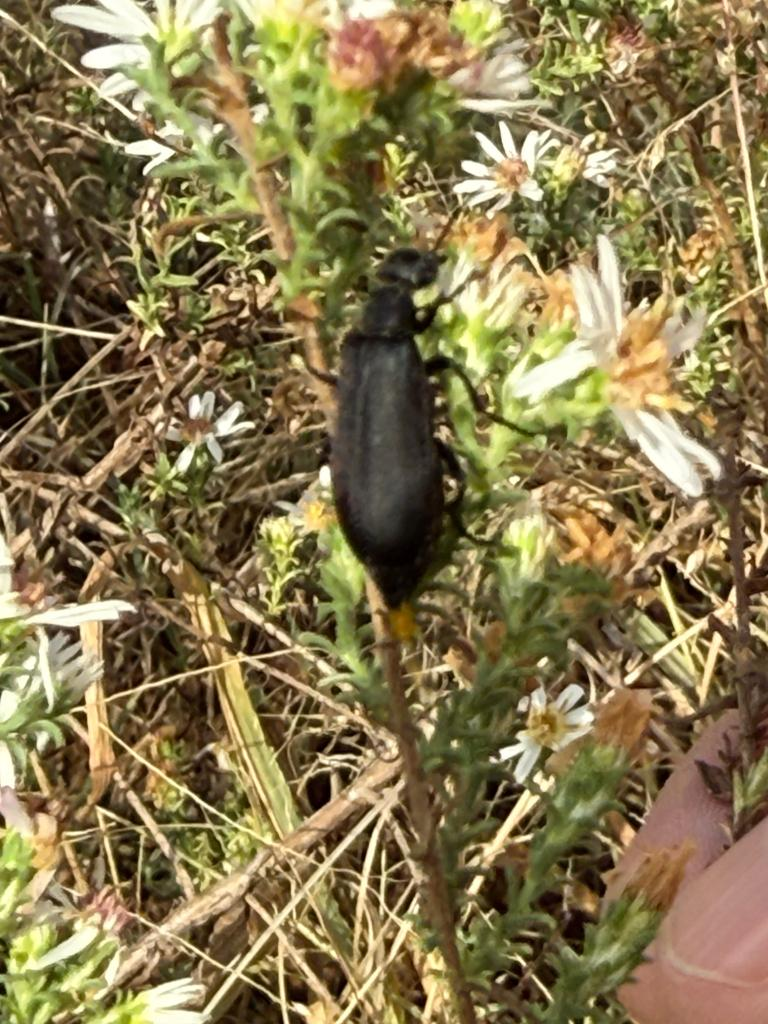blister_beetle: (259, 139, 554, 663)
